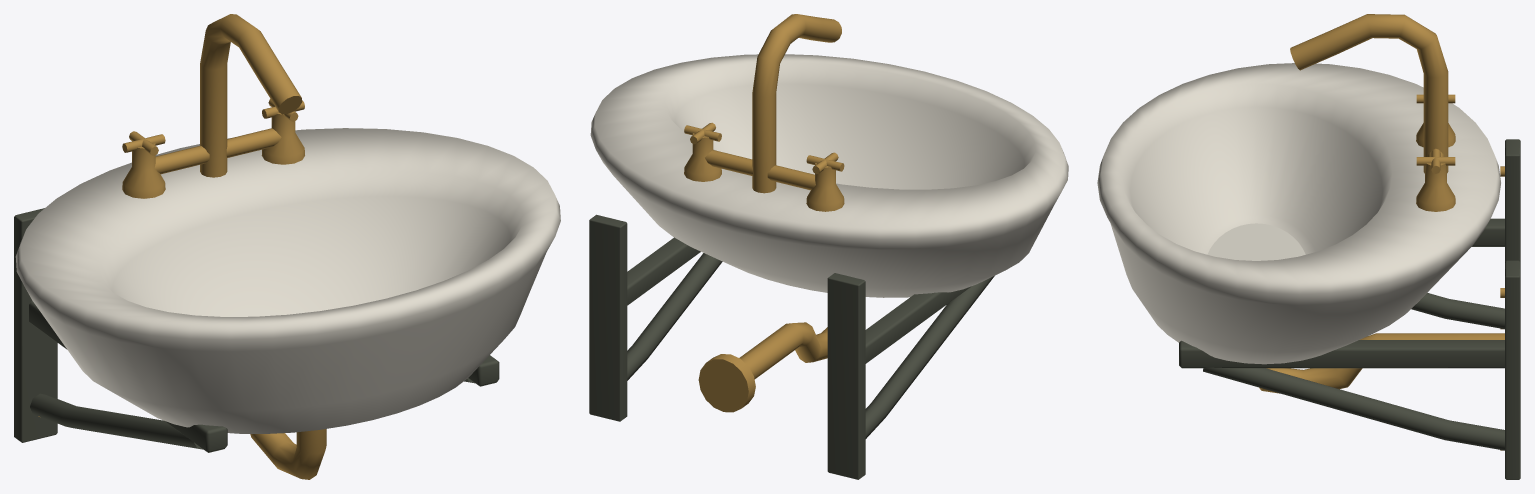
File: rpg-mansion-bracketed-wall-basin-01.glb
3 renders of one model, left to right at view 1: azimuth 30°, elevation 25°; view 2: azimuth 150°, elevation 25°; view 3: azimuth 270°, elevation 25°, orthographic. The views are drawn at different scales.
Visible parts, largest first — view 1: rpg-mansion-bracketed-wall-basin-01; view 2: rpg-mansion-bracketed-wall-basin-01; view 3: rpg-mansion-bracketed-wall-basin-01.
Boxes of the visible parts, x1,y1,x2,y2 form: rpg-mansion-bracketed-wall-basin-01: (14,14,560,479); rpg-mansion-bracketed-wall-basin-01: (589,14,1068,479); rpg-mansion-bracketed-wall-basin-01: (1097,14,1520,479).
Bounding box in the file's own units: 0.68 × 0.5635 × 0.545.
